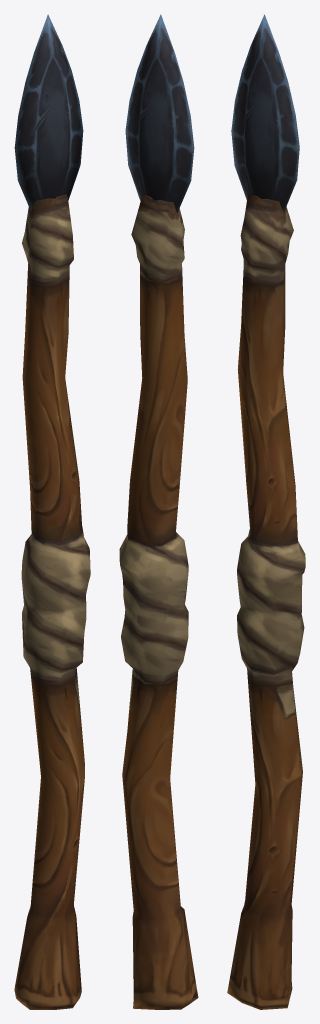
Rendered from SM_SPEAR.fbx.
3 renders of one model, left to right at view 1: azimuth 30°, elevation 25°; view 2: azimuth 150°, elevation 25°; view 3: azimuth 330°, elevation 25°, orthographic.
Parts seen in each view (by area): view 1: SM_SPEAR; view 2: SM_SPEAR; view 3: SM_SPEAR.
Boxes of the visible parts, x1=… form: SM_SPEAR: x1=14, y1=14, x2=90, y2=1009; SM_SPEAR: x1=119, y1=14, x2=198, y2=1009; SM_SPEAR: x1=227, y1=14, x2=305, y2=1009.
Size of the model in its own units: 4.6 by 58.04 by 3.73.
